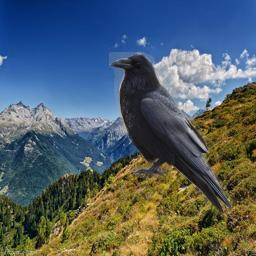Crow: (109, 52, 234, 216)
